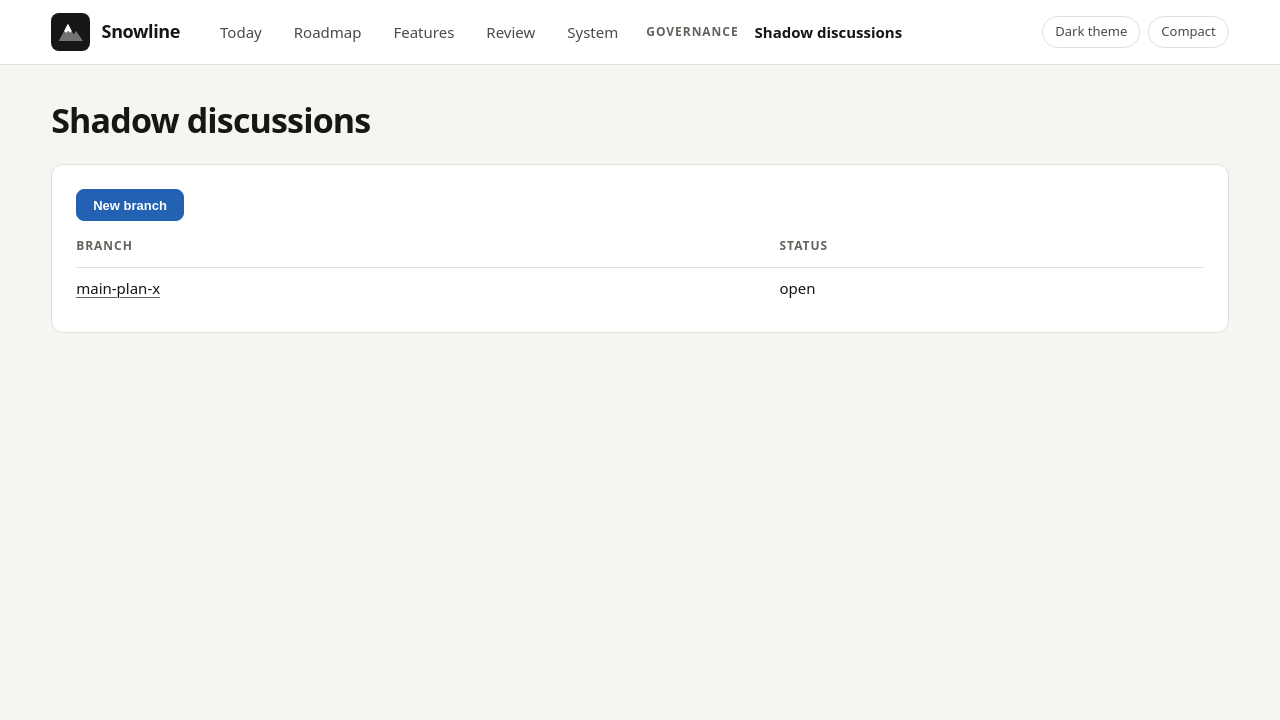
page actions[] › end to end: the registered shadow-branches page's action POSTs through the /ui-api proxy and navigates
This screenshot has width=1280, height=720.
Click the button "New branch". click: (130, 205)
box: 76,189 -> 184,221
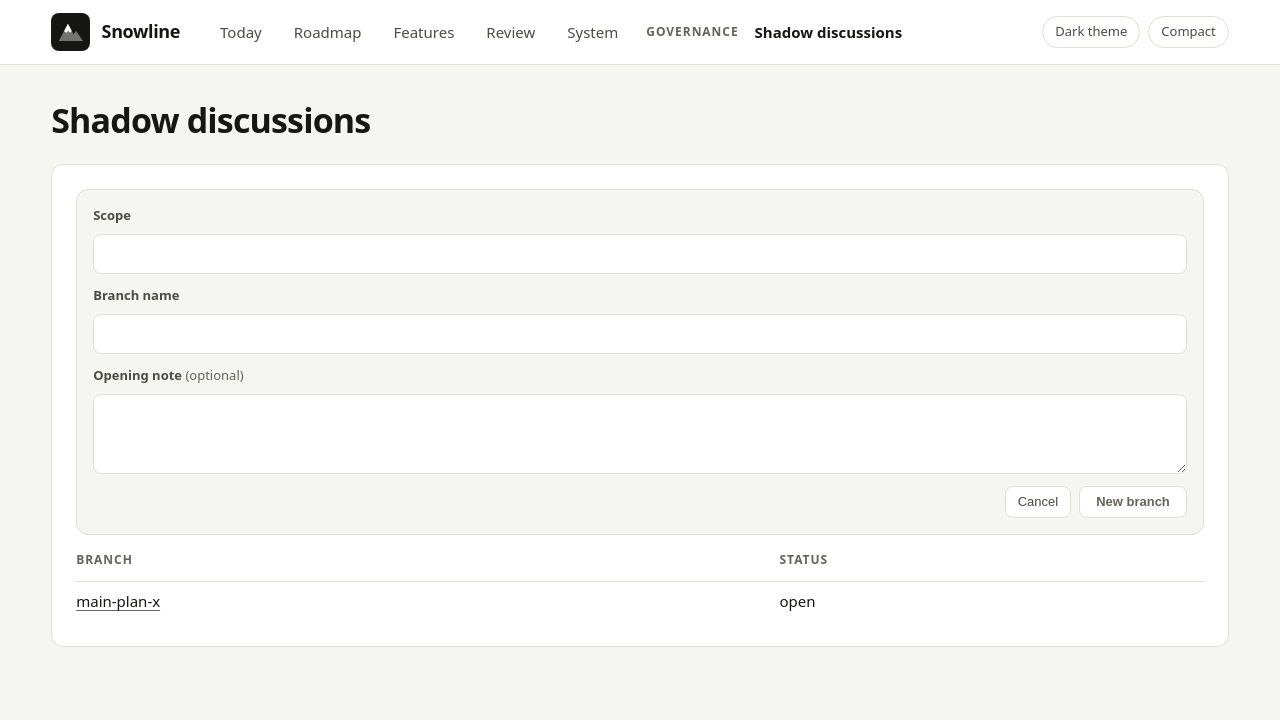
Type "acme/widget" into the field labelled "Scope". click: (640, 254)
box: 93,234 -> 1187,274
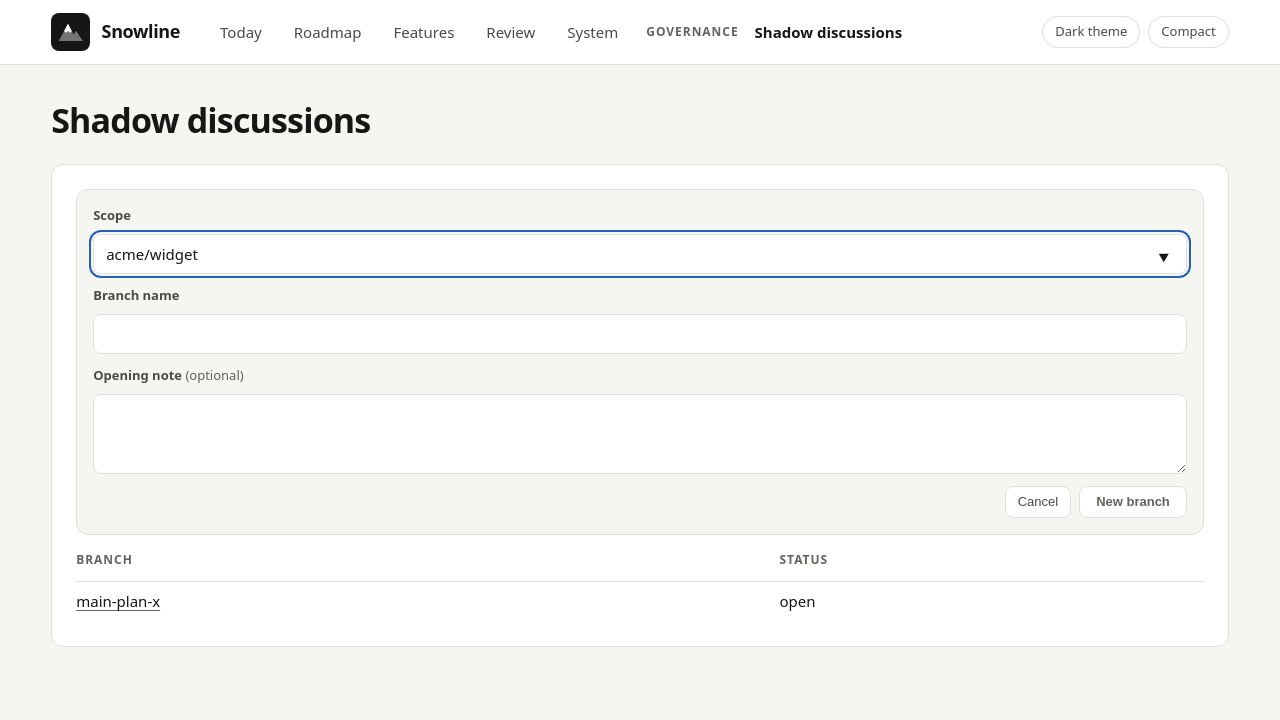
Type "e2e-branch" into the field labelled "Branch name". click: (640, 334)
box: 93,314 -> 1187,354
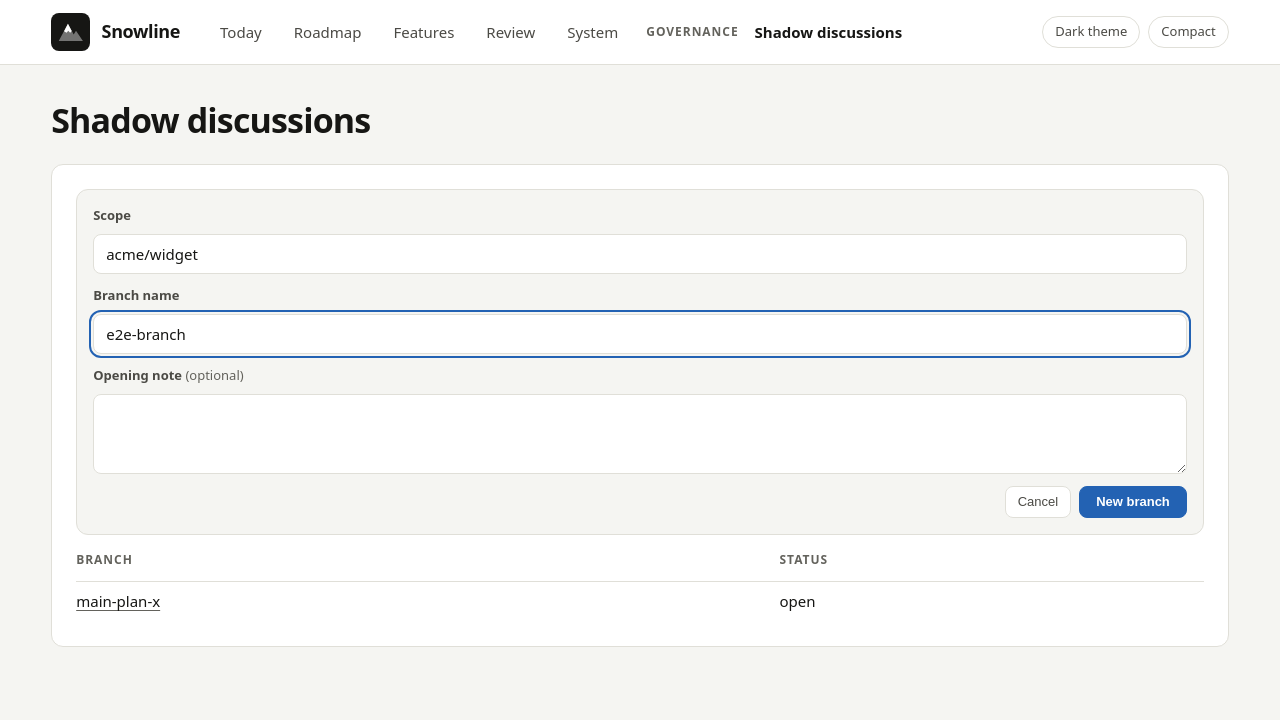
Click the button "New branch". click: (1133, 502)
box: 1079,486 -> 1187,518
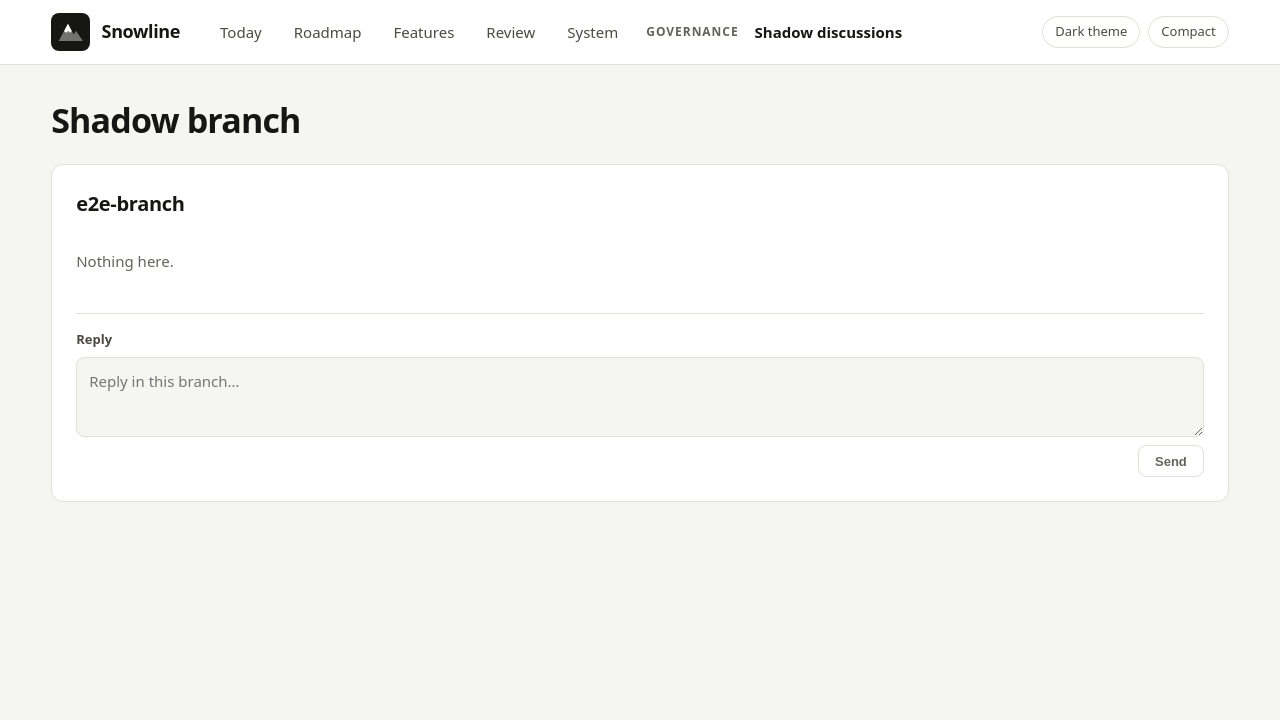
expect the heading "e2e-branch" is shown: met, box 76,190 -> 185,217
